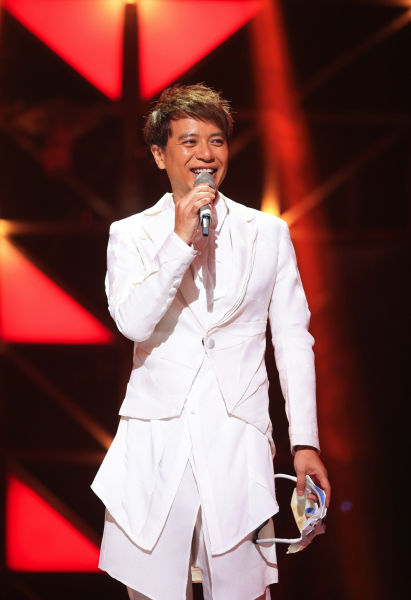face: (168, 107, 226, 197)
